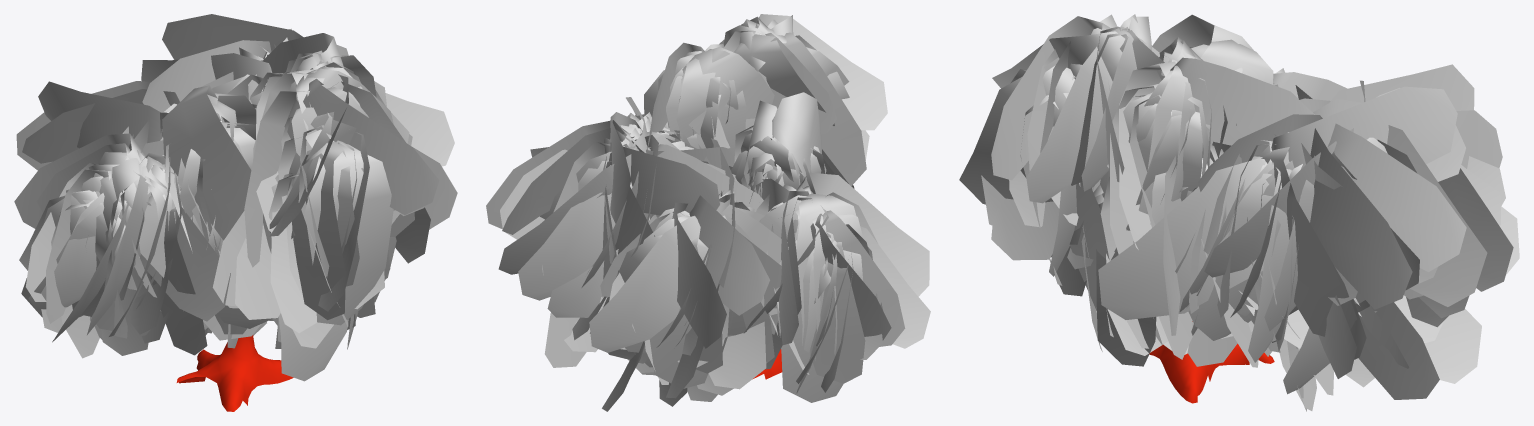
File: boom.fbx
3 renders of one model, left to right at view 1: azimuth 30°, elevation 25°; view 2: azimuth 150°, elevation 25°; view 3: azimuth 270°, elevation 25°, orthographic. The views are drawn at different scales.
Parts seen in each view (by area): view 1: boom hoog|bladeren_weeping_willow_png-removebg-preview|Dupli (×65), boom hoog; view 2: boom hoog|bladeren_weeping_willow_png-removebg-preview|Dupli (×67); view 3: boom hoog|bladeren_weeping_willow_png-removebg-preview|Dupli (×70), boom hoog.
Boxes of the visible parts, left/top/right/bottom form: boom hoog|bladeren_weeping_willow_png-removebg-preview|Dupli (×65): left=14, top=14, right=457, bottom=381; boom hoog: left=176, top=335, right=293, bottom=411; boom hoog|bladeren_weeping_willow_png-removebg-preview|Dupli (×67): left=486, top=14, right=930, bottom=411; boom hoog|bladeren_weeping_willow_png-removebg-preview|Dupli (×70): left=959, top=14, right=1519, bottom=410; boom hoog: left=1149, top=321, right=1274, bottom=403.
Bounding box in the file's own units: 52.19 × 40.15 × 55.15.
